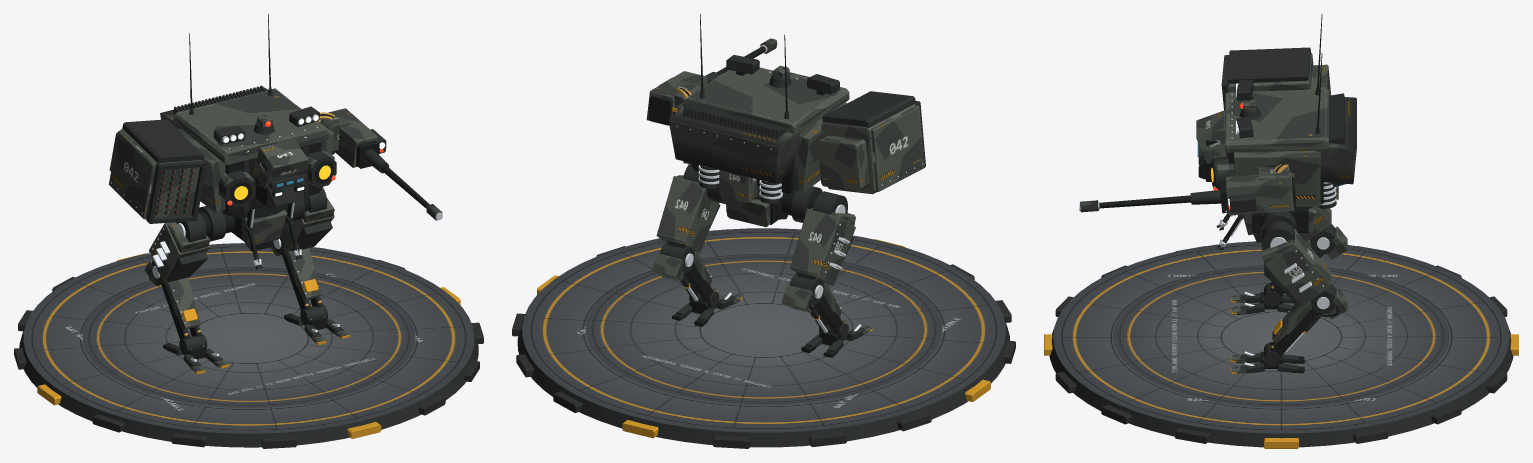
The model's file is mech-042.glb.
The picture shows the model from 3 angles, left to right: view 1: azimuth 30°, elevation 25°; view 2: azimuth 150°, elevation 25°; view 3: azimuth 270°, elevation 25°; orthographic projection. The views are drawn at different scales.
Parts seen in each view (by area): view 1: Turntable, Chassis, Stock_Left, Stock_Right; view 2: Turntable, Chassis, Stock_Left, Stock_Right; view 3: Turntable, Chassis, Stock_Right, Stock_Left.
Part boxes in pixels (x1,y1,x2,y2): Turntable: (14,243,483,448); Chassis: (111,14,350,374); Stock_Left: (109,119,206,223); Stock_Right: (318,108,442,220); Turntable: (512,228,1015,448); Chassis: (652,14,923,357); Stock_Left: (817,91,925,194); Stock_Right: (646,38,777,125); Turntable: (1044,241,1518,448); Chassis: (1196,14,1356,374); Stock_Right: (1079,164,1295,215); Stock_Left: (1221,47,1330,110).
Size of the model in its own units: 8.88 by 6.51 by 8.88.
Materials: 20 (8 with a texture image).
